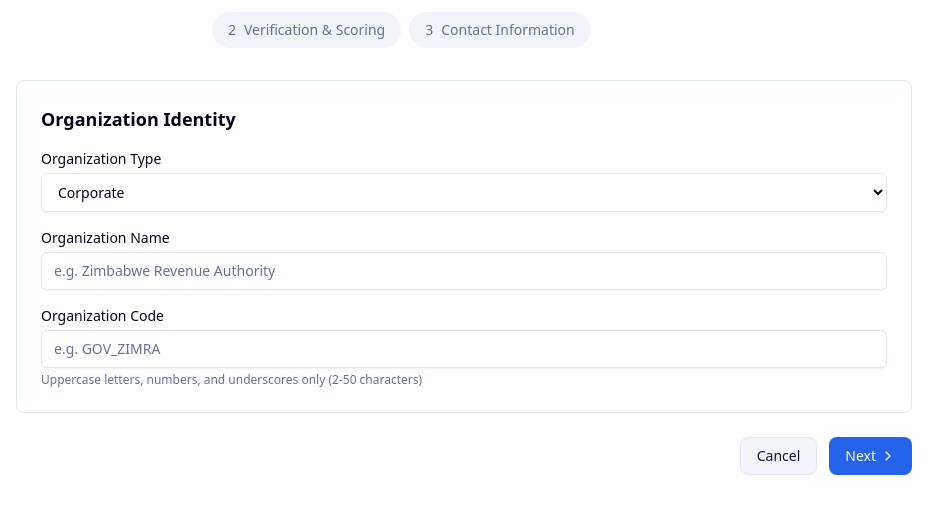
Scenario: OrganizationWizard › shows validation error when org_code is empty on Next
# Type a name so only code is the issue
Type "Test Org" into the field labelled "Organization Name" at point(464, 271), box [41, 252, 887, 290]
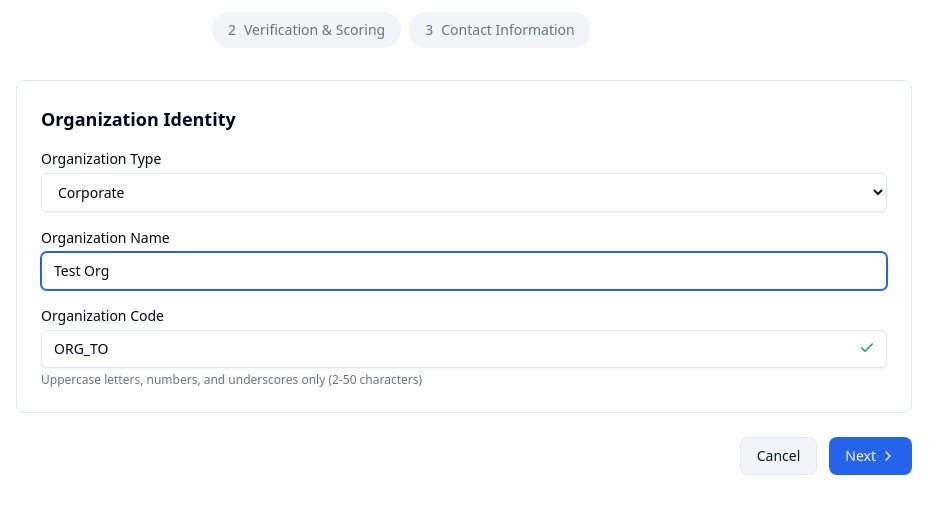
# Clear the auto-suggested code
Clear the field labelled "Organization Code" at point(464, 349), box [41, 330, 887, 368]
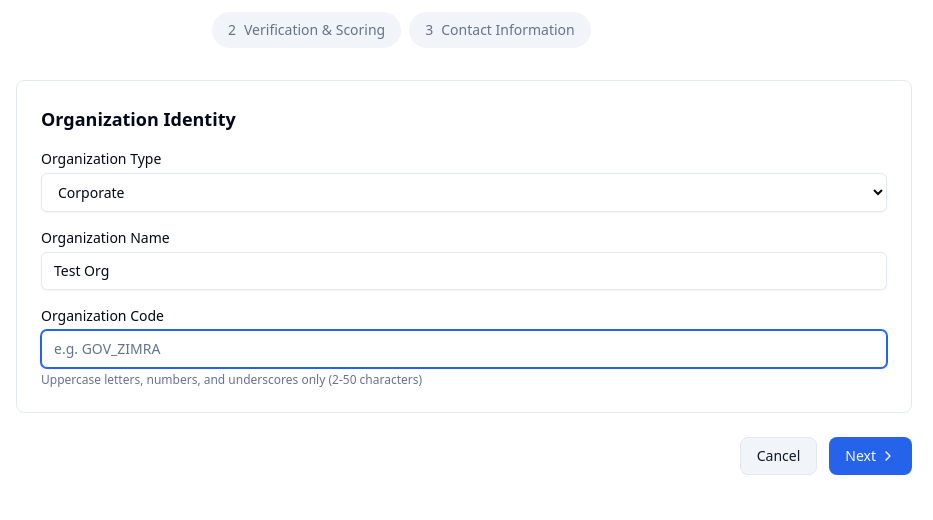
Click the button "Next" at point(871, 456), box [829, 437, 912, 475]
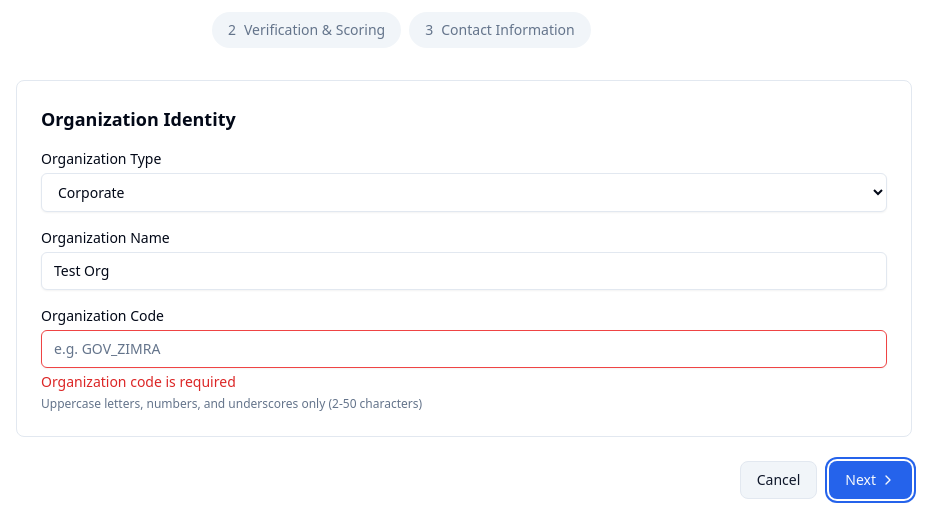
expect the text "Organization code is required" is shown: met, box [41, 372, 236, 391]
